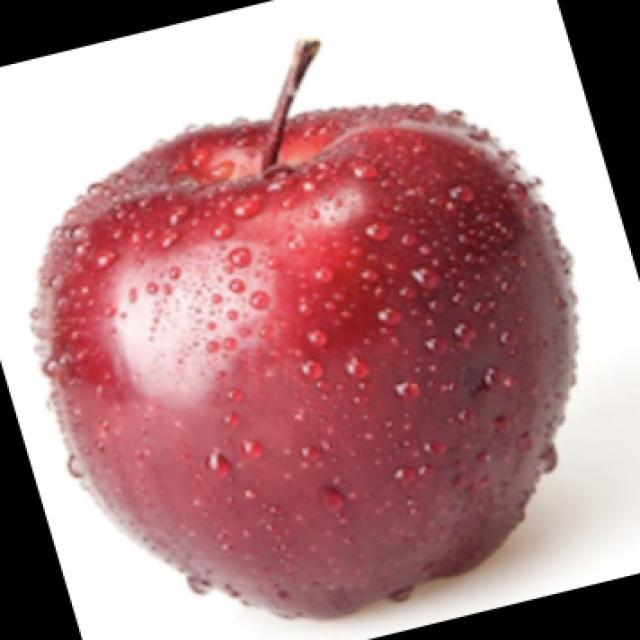Apple: (28, 38, 580, 620)
